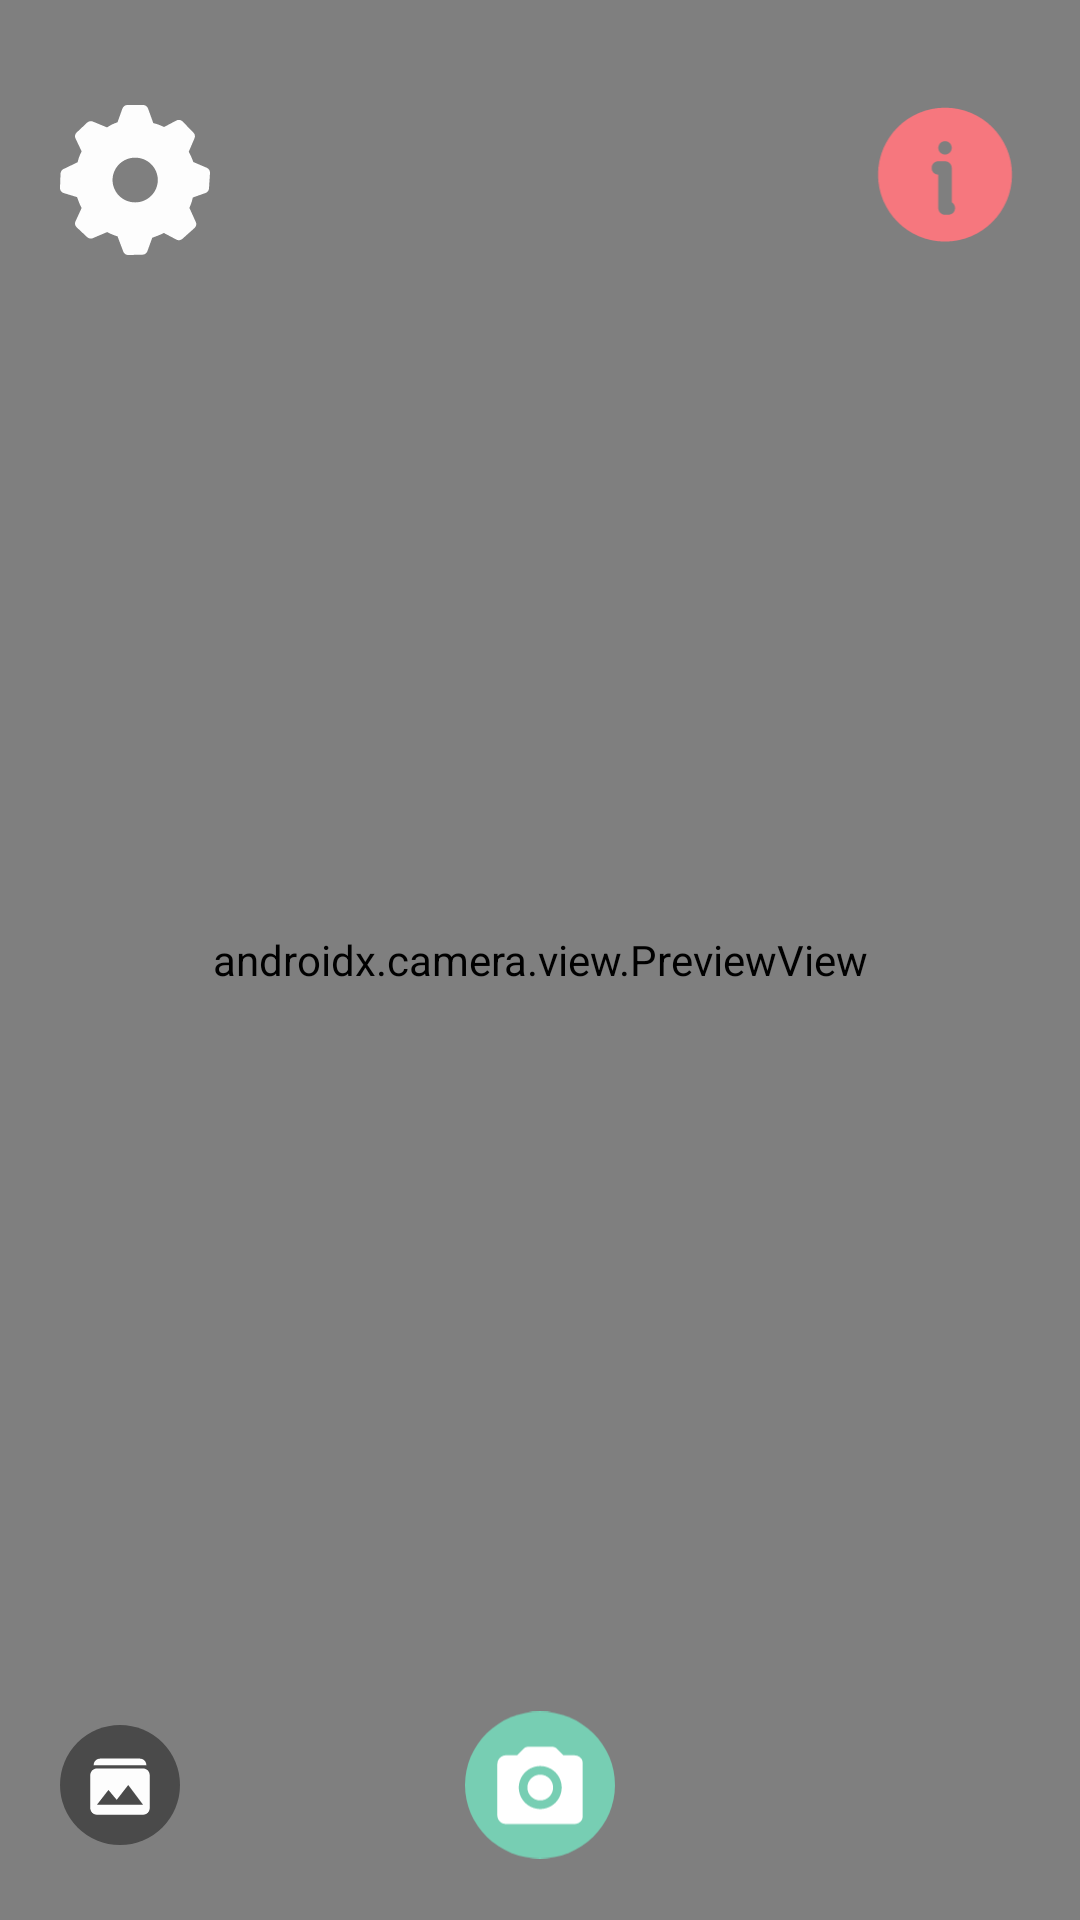

Named icons in this screenshot (1080*1920) and their centers, [x,y]:
Ikon Galeri: [120,1785]
Ikon Tangkap Kamera: [540,1785]
info: [945,174]
setting: [135,180]
